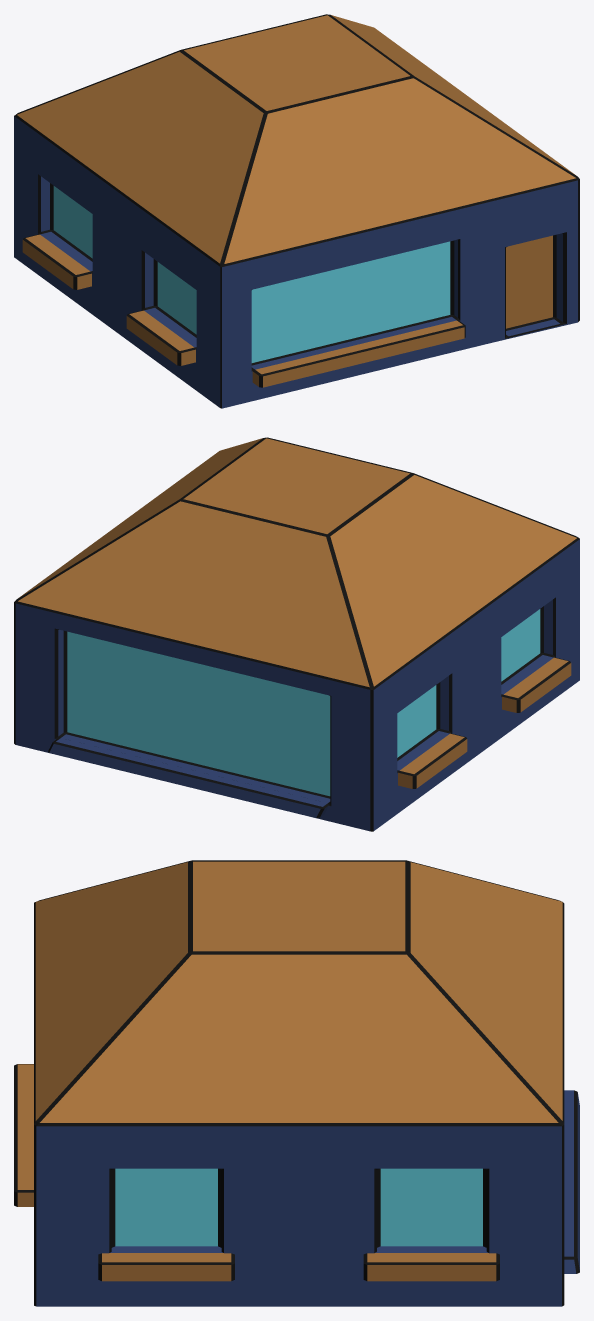
Rendered from House2.fbx.
3 views of the same model, one above another, from view 1: azimuth 30°, elevation 25°; view 2: azimuth 150°, elevation 25°; view 3: azimuth 270°, elevation 25° (orthographic). The views are drawn at different scales.
Parts seen in each view (by area): view 1: Cube.003; view 2: Cube.003; view 3: Cube.003.
Part boxes in pixels (bbox=[...]): Cube.003: bbox=[14, 14, 579, 408]; Cube.003: bbox=[14, 437, 579, 831]; Cube.003: bbox=[14, 860, 579, 1306].
Bounding box in the file's own units: 2.9 × 1.6 × 2.83.
